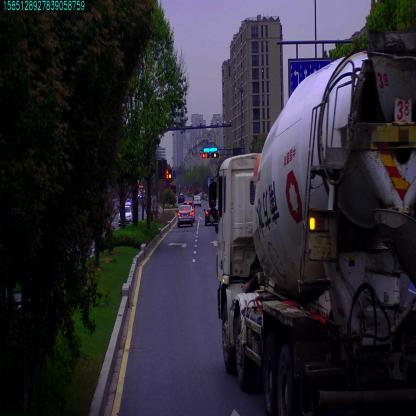traffic-light: (203, 145, 218, 152), (211, 153, 219, 159), (200, 152, 208, 158)
